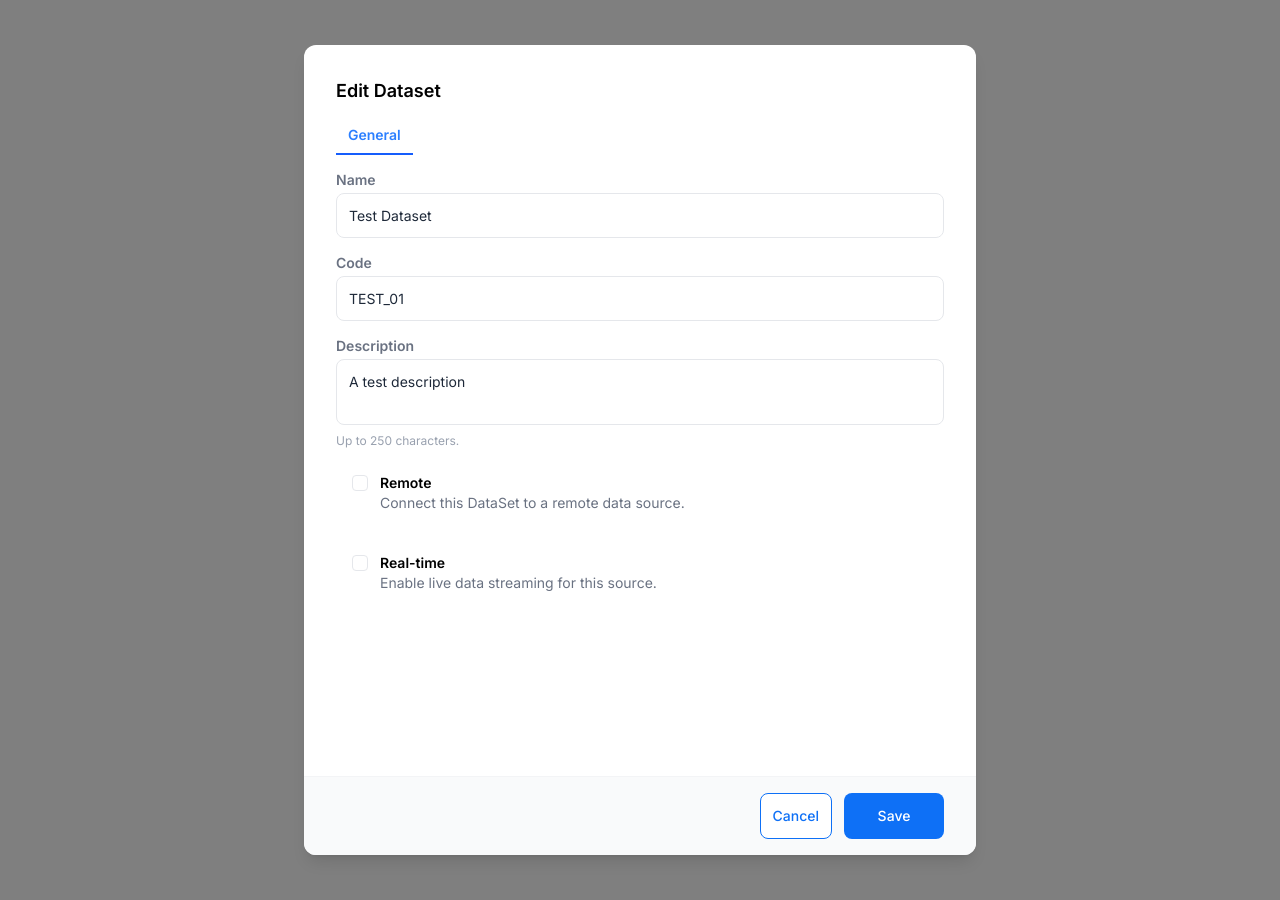
it: AddAndEditDatasetModal › Edit mode › displays API error when updateDataset rejects
The image size is (1280, 900).
Click the button "Save" at [894, 816], box [844,793,944,839]
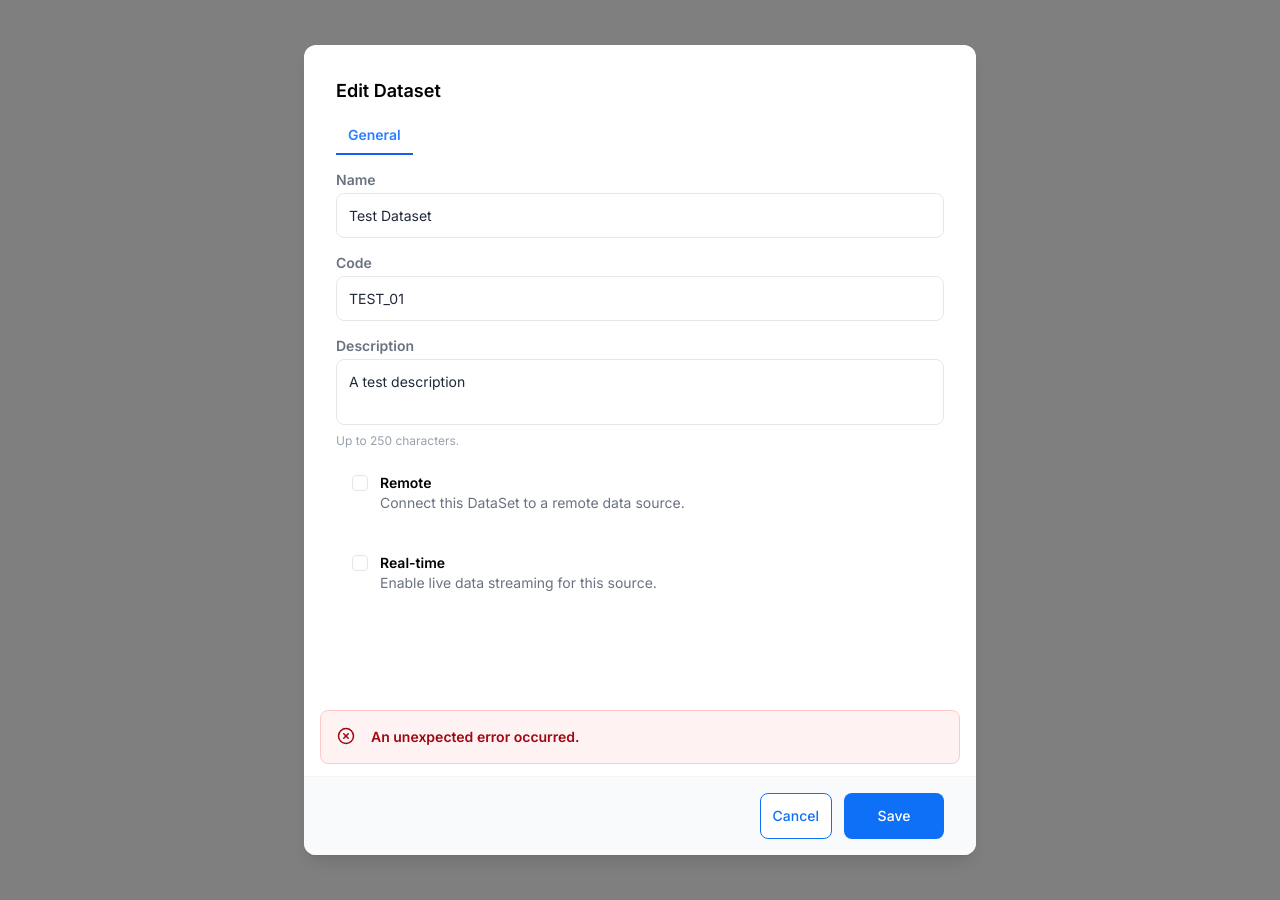
Expected: the message "An unexpected error occurred." is shown, [320,710,960,764]
